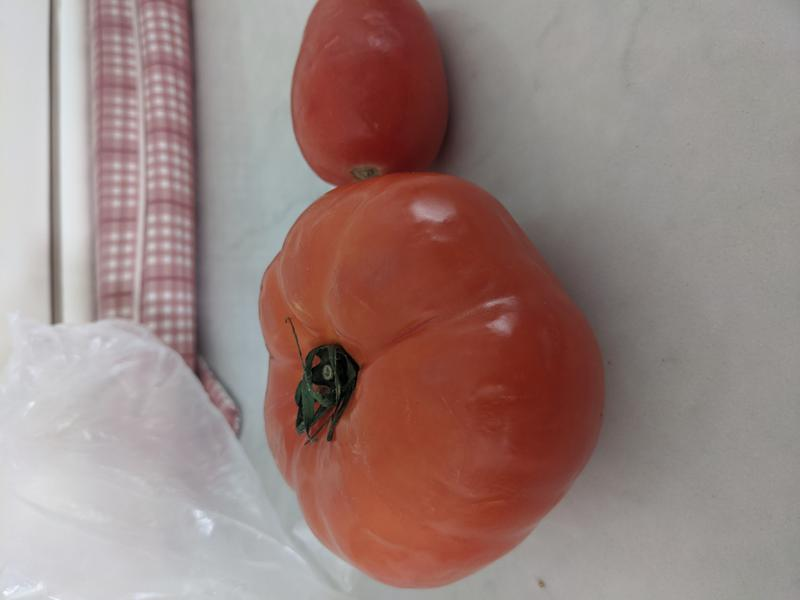tomato: (258, 172, 608, 589), (288, 1, 453, 188)
